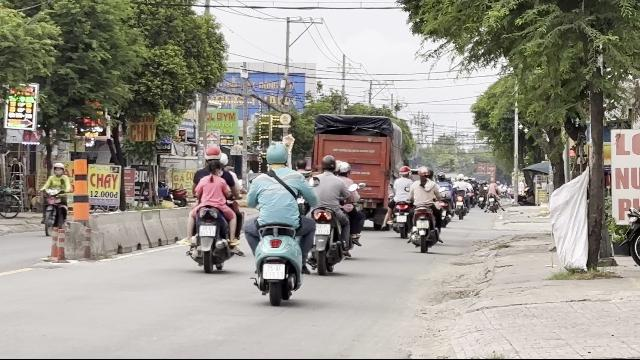helmet: (264, 143, 288, 167), (204, 145, 222, 165), (320, 154, 336, 172)
licenseplate: (263, 264, 285, 280), (314, 224, 330, 234), (200, 225, 216, 235)
motorcyclist: (242, 141, 316, 305), (184, 144, 243, 272), (309, 154, 363, 274)
nohelmet: (206, 160, 224, 176)
